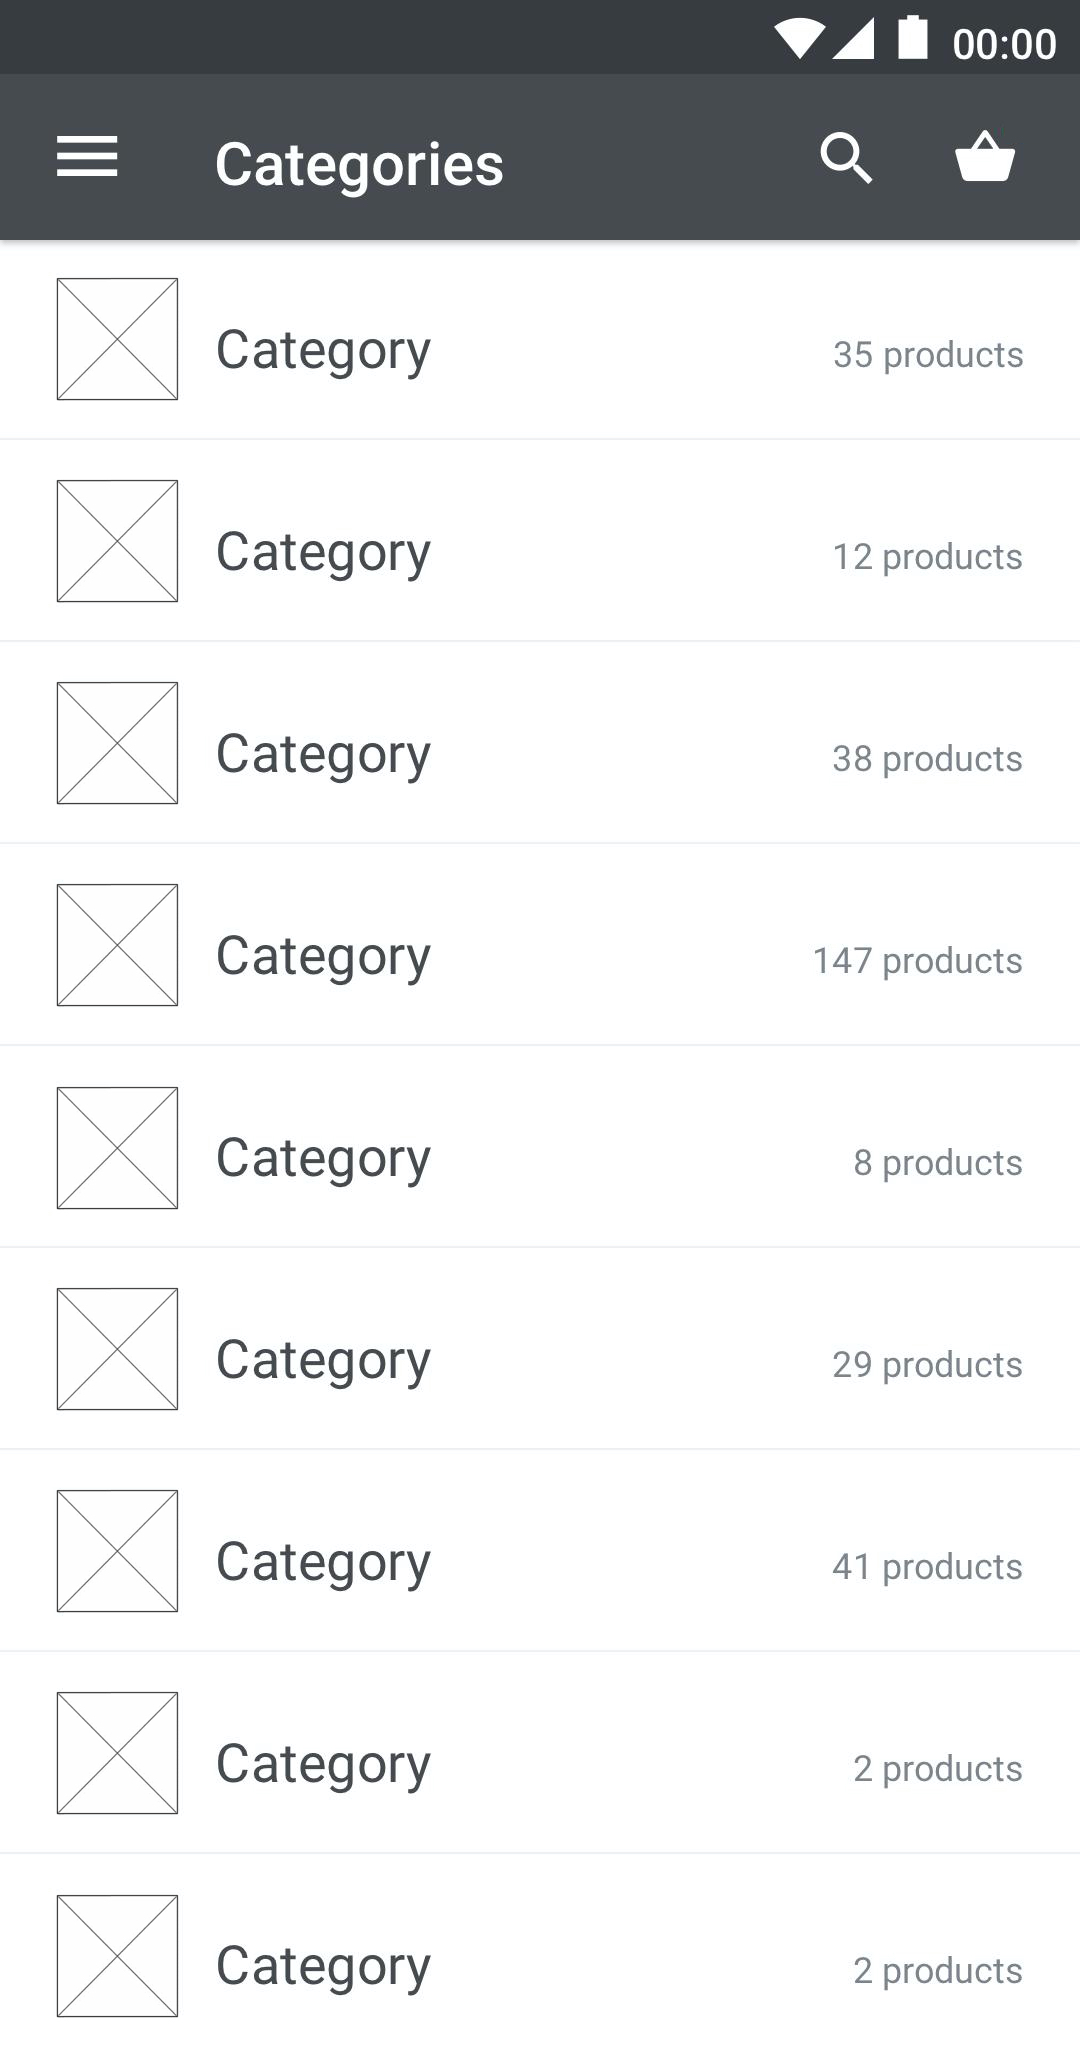Icon: (954, 128, 1016, 183), (819, 131, 875, 187), (55, 135, 120, 179)
Image: (57, 1894, 180, 2019), (57, 277, 180, 402), (57, 480, 180, 605), (57, 682, 180, 806), (57, 1288, 180, 1412), (57, 1489, 180, 1614), (57, 885, 180, 1008), (57, 1087, 180, 1210), (57, 1692, 180, 1815)
Text: (216, 139, 506, 200), (216, 1133, 433, 1189), (218, 1539, 433, 1595), (218, 530, 433, 584), (218, 933, 433, 987), (218, 1741, 433, 1795), (219, 1944, 433, 1998), (218, 329, 433, 381), (218, 732, 433, 784), (218, 1338, 433, 1390), (812, 944, 1023, 982), (833, 541, 1025, 579), (833, 743, 1025, 780), (831, 1550, 1023, 1588), (833, 1348, 1023, 1386), (833, 339, 1025, 376), (853, 1954, 1025, 1992), (853, 1753, 1025, 1789), (854, 1147, 1023, 1183)
UpperTaskBar: (1, 1, 1080, 74)
